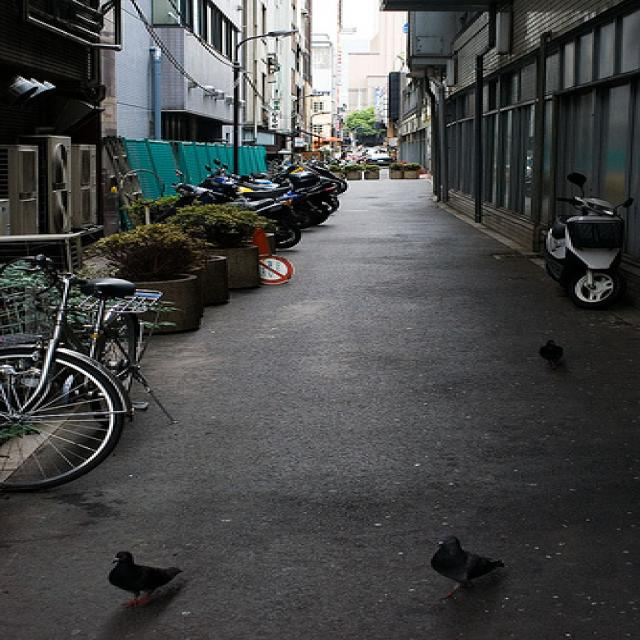motor: (540, 169, 635, 309), (159, 169, 307, 251), (199, 165, 320, 229), (223, 172, 341, 214), (251, 162, 349, 192)
